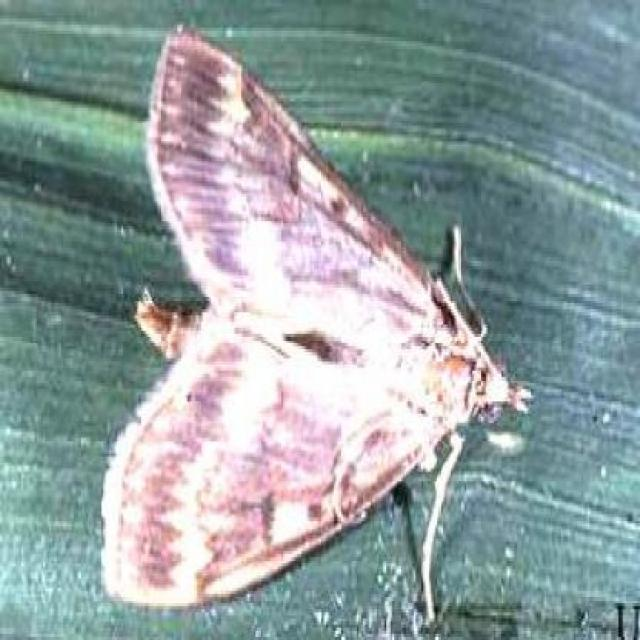stem-borer: (100, 20, 535, 612)
